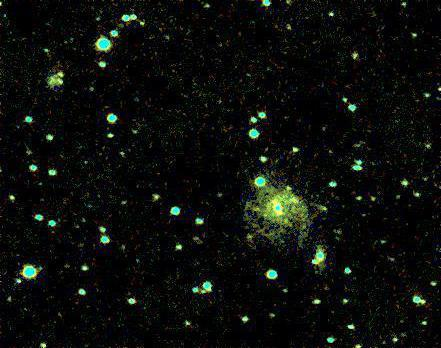star: (290, 213, 320, 243)
